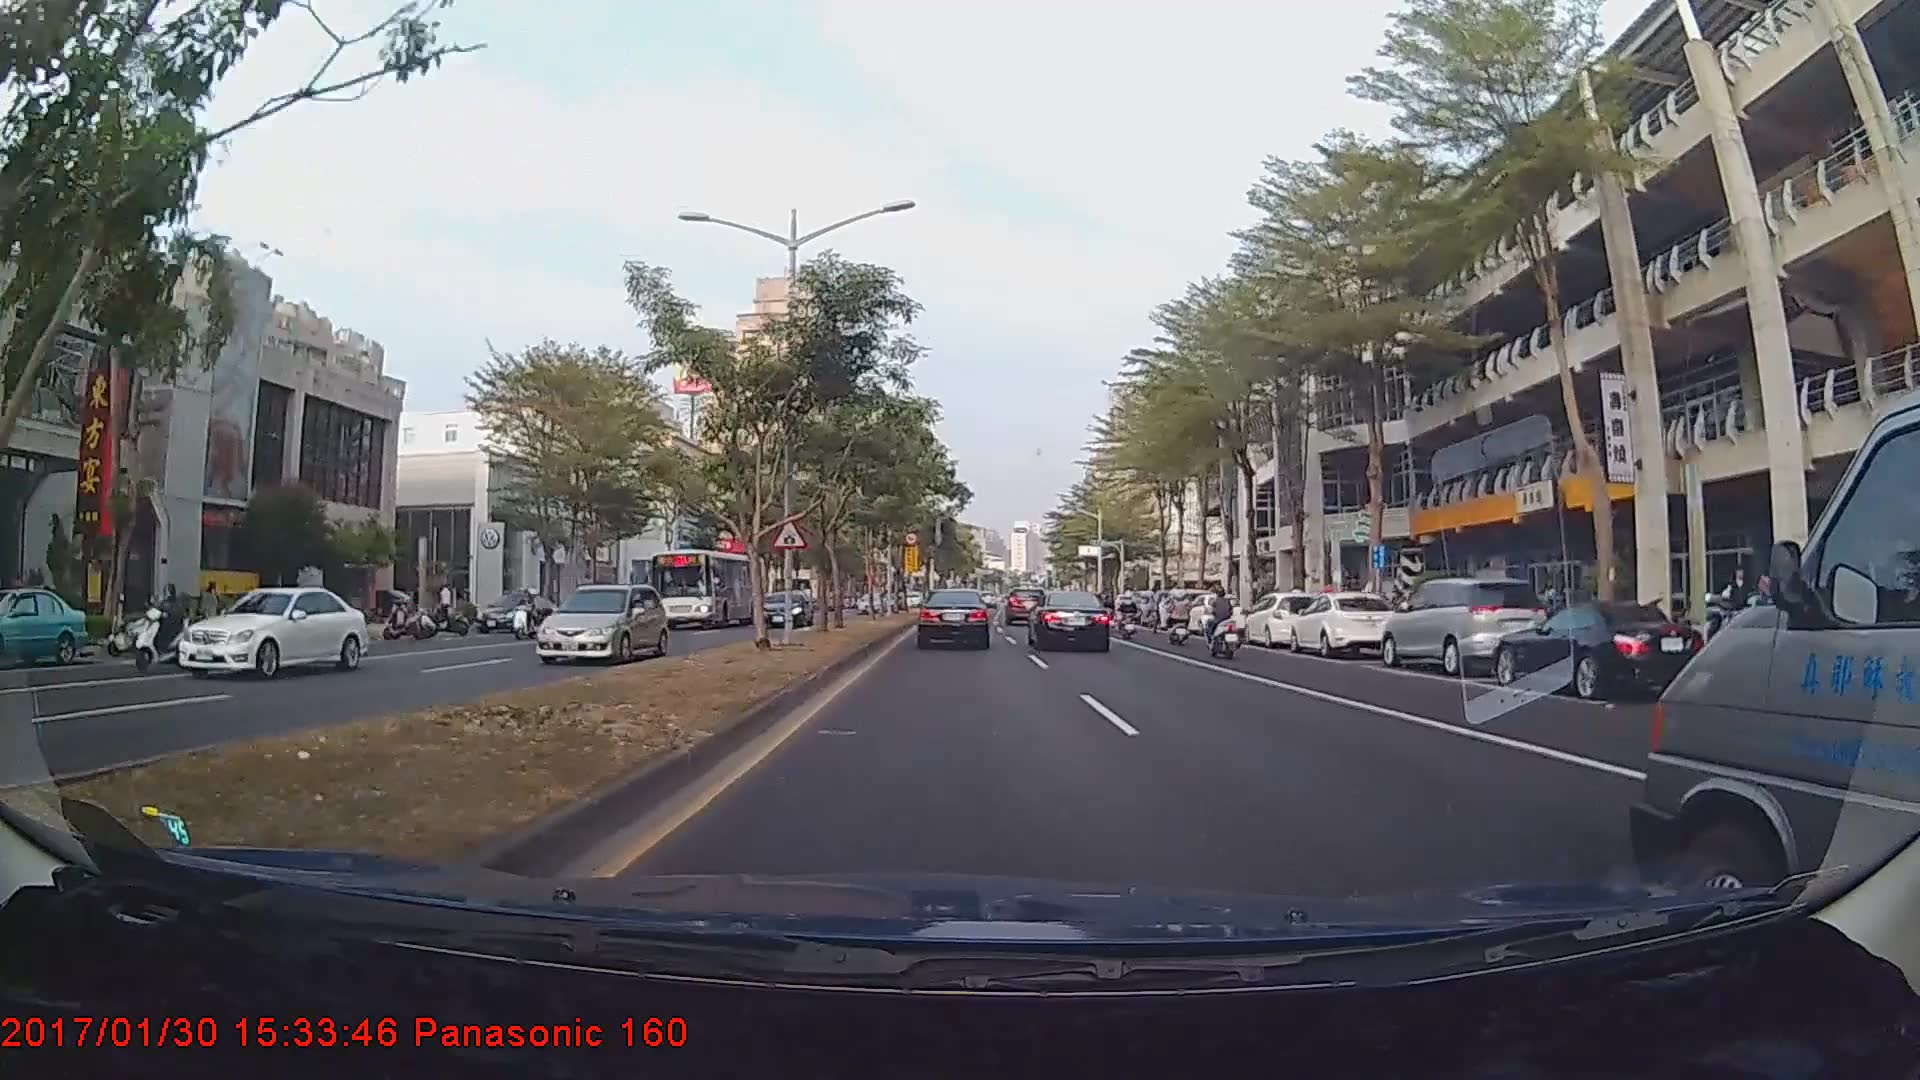rider: (128, 578, 200, 673), (1201, 582, 1249, 660), (1153, 590, 1203, 646), (510, 586, 541, 637), (1114, 586, 1141, 638)
vehicle: (1645, 465, 1912, 885), (1489, 602, 1704, 700), (175, 582, 374, 681), (1380, 570, 1552, 675), (532, 580, 668, 665), (646, 547, 762, 629), (1287, 588, 1396, 654), (0, 588, 89, 668), (1031, 589, 1112, 652), (1237, 588, 1323, 646), (917, 587, 991, 649), (1182, 592, 1244, 634), (756, 589, 811, 627), (1005, 584, 1046, 623)
